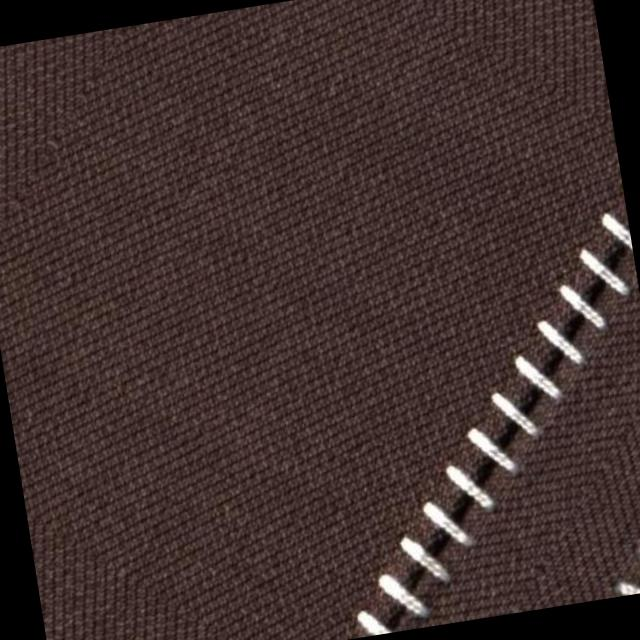gray stitch: (332, 394, 558, 637), (496, 211, 640, 419), (613, 514, 640, 596)
